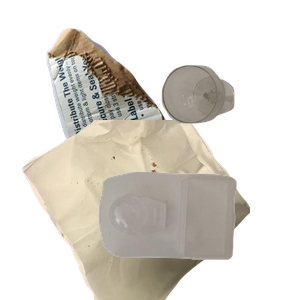cardboard: (44, 26, 209, 186)
glass: (159, 63, 300, 179)
plastic: (96, 169, 300, 300)
trash: (20, 120, 260, 300)
